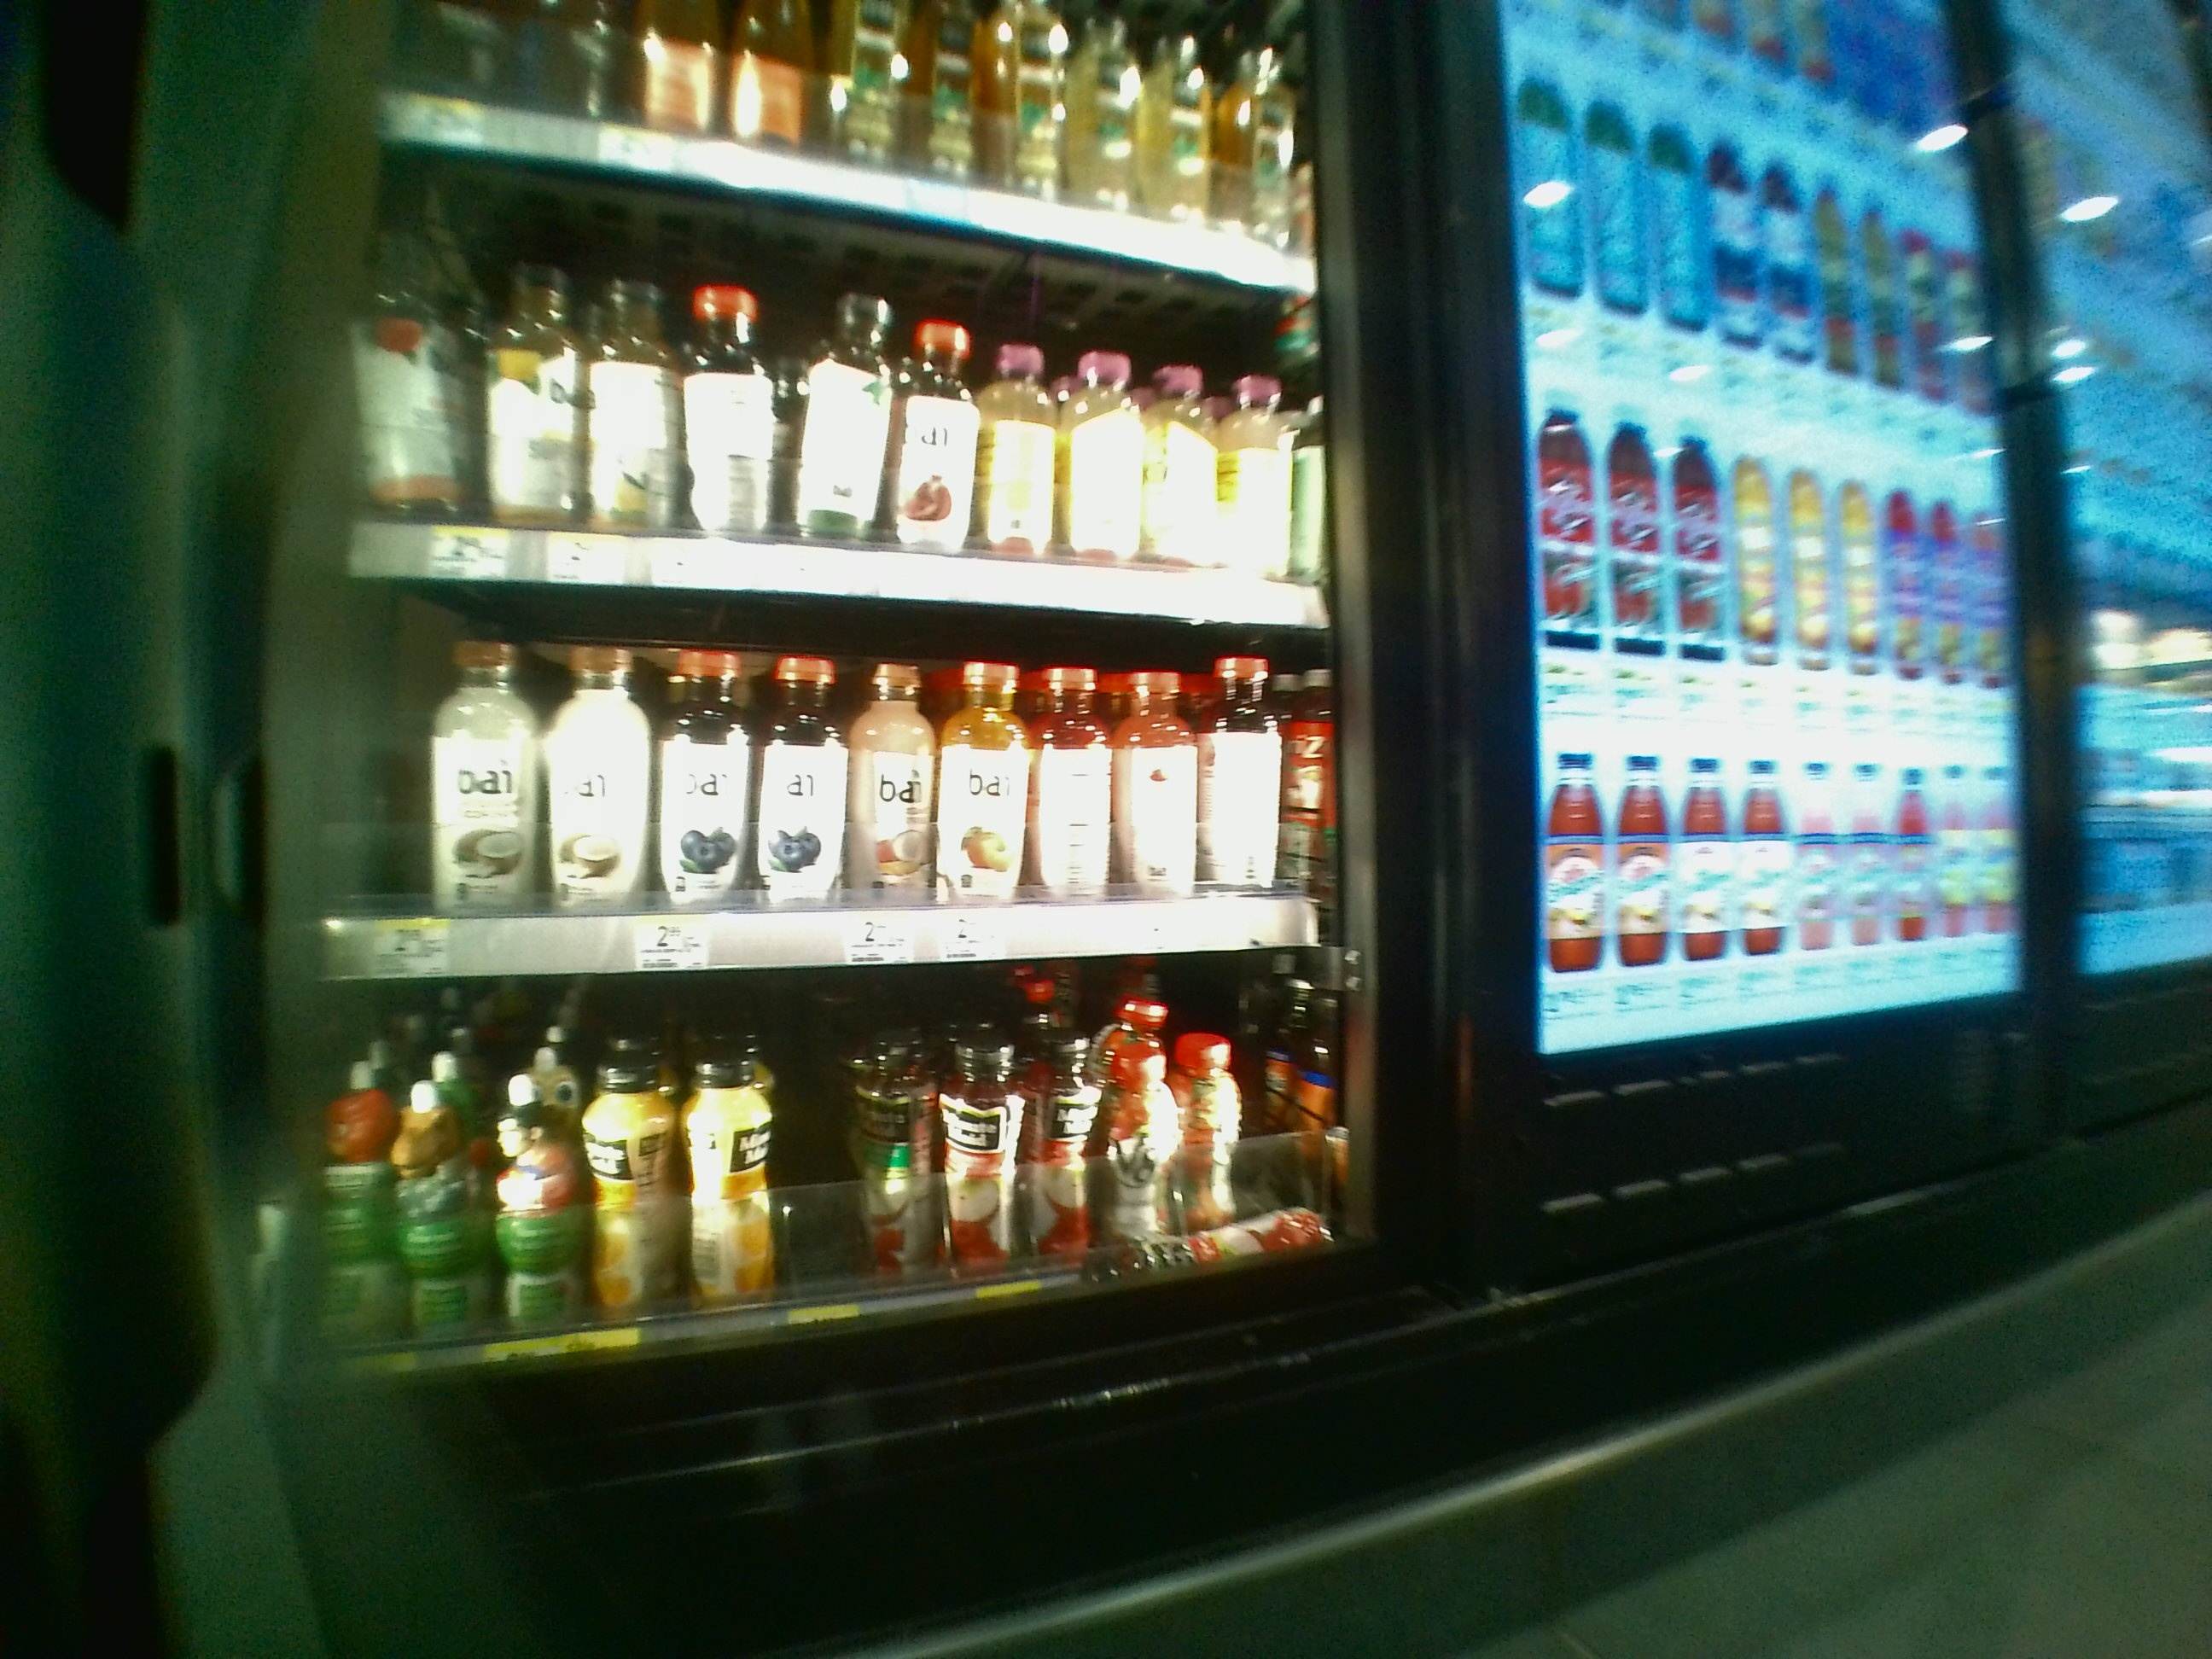shelf: (315, 988, 1348, 1396), (341, 162, 1334, 580), (324, 592, 1334, 969)
